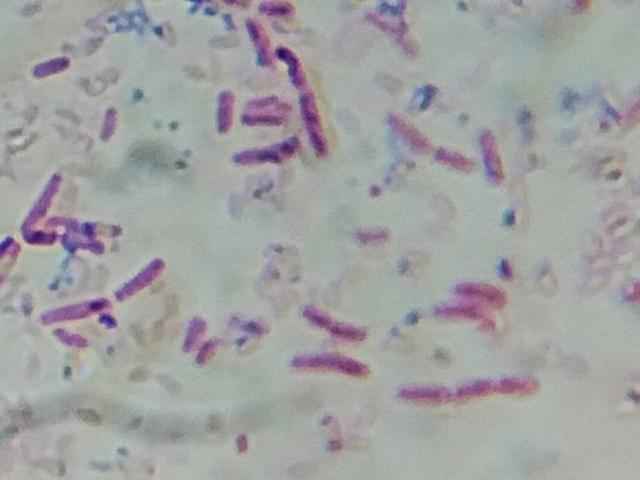E. coli: (391, 369, 544, 406), (113, 249, 174, 303), (368, 6, 425, 59), (293, 347, 369, 386), (298, 297, 359, 341), (36, 290, 108, 326), (436, 296, 496, 334), (302, 86, 331, 159), (236, 136, 303, 167), (21, 232, 114, 254), (479, 123, 509, 189), (49, 207, 119, 235), (23, 169, 64, 216), (456, 270, 508, 304), (281, 40, 312, 89), (53, 323, 97, 357), (386, 110, 427, 146), (250, 0, 308, 25), (435, 142, 471, 179), (241, 96, 288, 123), (245, 17, 271, 65), (212, 85, 235, 136), (33, 56, 71, 85), (93, 103, 119, 145), (179, 316, 203, 349), (0, 225, 16, 267), (188, 342, 212, 367)
